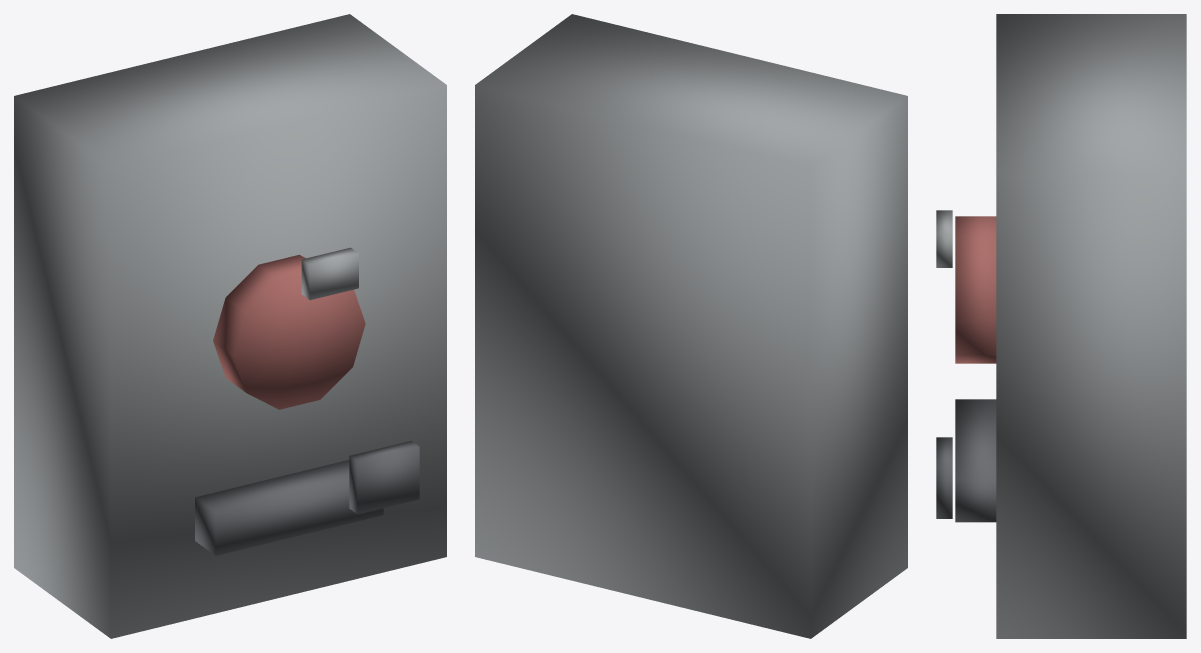
The model's file is queue_ticket_dispenser__weathered.glb.
3 renders of one model, left to right at view 1: azimuth 30°, elevation 25°; view 2: azimuth 150°, elevation 25°; view 3: azimuth 270°, elevation 25°, orthographic.
Parts seen in each view (by area): view 1: world; view 2: world; view 3: world.
Boxes of the visible parts, <box> form: world: <box>14,14,446,638</box>; world: <box>475,14,907,638</box>; world: <box>936,14,1186,638</box>.
Bounding box in the file's own units: 0.28 × 0.3762 × 0.184.
